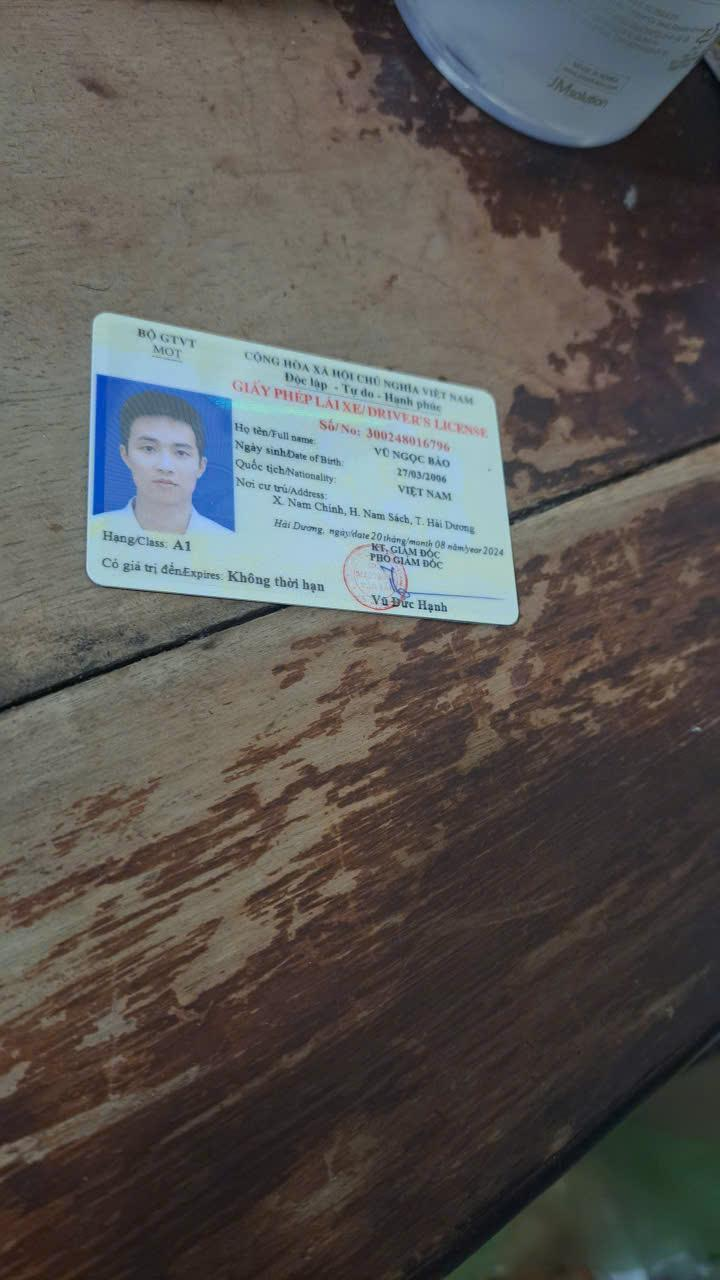gplx: (82, 307, 522, 632)
